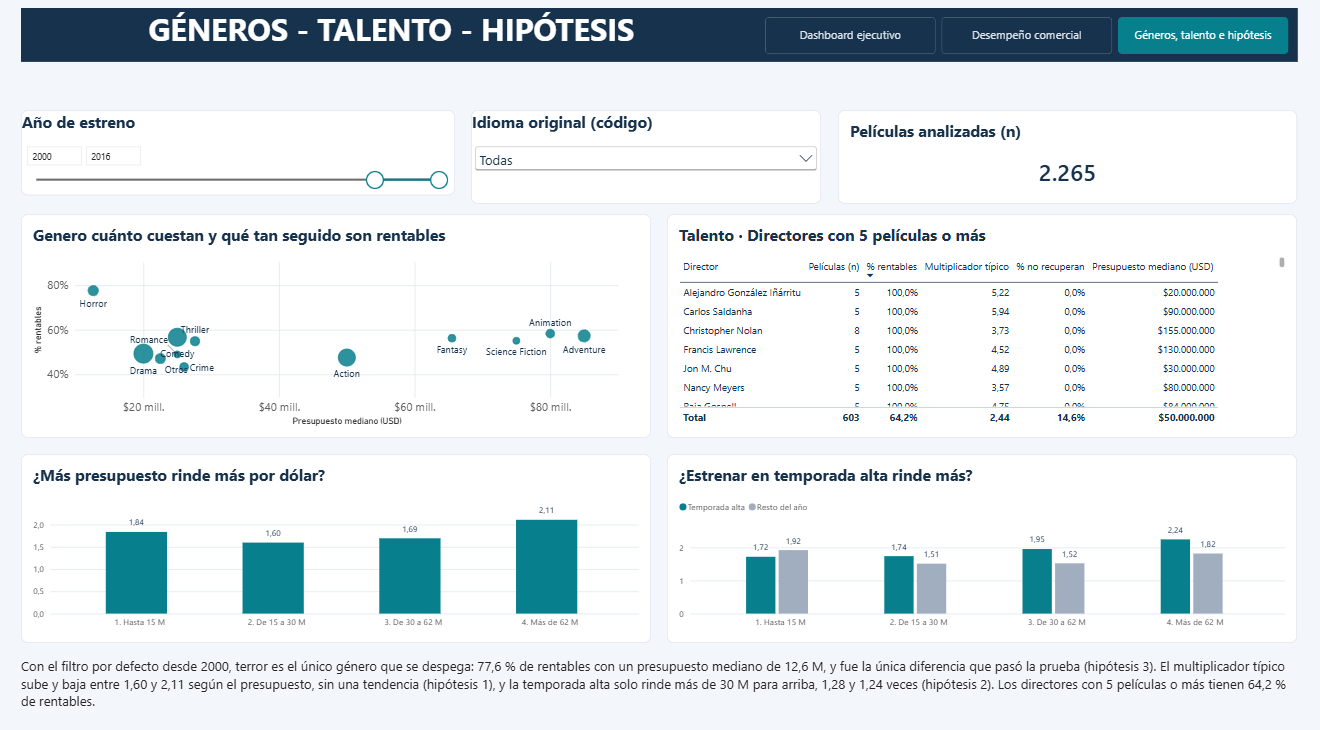

What the dashboard file says about the page in this screenshot:
{"tool":"powerbi","page":{"name":"Géneros, talento e hipótesis","canvas":[1920,1080],"ordinal":2},"visuals":[{"type":"textbox","box":[48,22,1824,77],"z":0},{"type":"slicer","title":"Año de estreno","fields":{"Values":["dim_fecha.anio"]},"box":[48,167,620,122],"z":2000},{"type":"slicer","title":"Idioma original (código)","fields":{"Values":["dim_idioma.codigo_idioma"]},"box":[691.6,167.6,500.1,134.3],"z":3000},{"type":"card","title":"Películas analizadas (n)","fields":{"Values":["fact_peliculas.Películas"]},"box":[1215.7,167.6,655.7,134.3],"z":4000},{"type":"scatterChart","title":"Genero cuánto cuestan y qué tan seguido son rentables","fields":{"Category":["fact_peliculas.genero_agrupado"],"Size":["fact_peliculas.Películas"],"X":["fact_peliculas.Presupuesto mediano"],"Y":["fact_peliculas.% rentables"]},"box":[48,315,900,320],"z":4001},{"type":"tableEx","title":"Talento · Directores con 5 películas o más","fields":{"Values":["dim_director.director_etiqueta","fact_peliculas.Películas","fact_peliculas.% rentables","fact_peliculas.Multiplicador típico","fact_peliculas.% no recuperan presupuesto","fact_peliculas.Presupuesto mediano"]},"box":[972,315,900,320],"z":4002},{"type":"clusteredColumnChart","title":"¿Más presupuesto rinde más por dólar?","fields":{"Category":["fact_peliculas.Rango de presupuesto"],"Y":["fact_peliculas.Multiplicador típico"]},"box":[48,659,900,270],"z":4003},{"type":"clusteredColumnChart","title":"¿Estrenar en temporada alta rinde más?","fields":{"Category":["fact_peliculas.Rango de presupuesto"],"Y":["fact_peliculas.Multiplicador típico temporada alta","fact_peliculas.Multiplicador típico resto del año"]},"box":[972,659,900,270],"z":4004},{"type":"textbox","box":[48,948,1824,105],"z":4005},{"type":"pageNavigator","box":[1112,34,748,53],"z":5000}]}

Visuals, with their boxes in screenshot pixels (x1, y1, x2, y2), scaled from the page's 1920x1080 canvas onto the 1320x730 screenshot:
textbox: (33, 15, 1287, 67)
"Año de estreno" slicer: (33, 113, 459, 195)
"Idioma original (código)" slicer: (475, 113, 819, 204)
"Películas analizadas (n)" card: (836, 113, 1287, 204)
"Genero cuánto cuestan y qué tan seguido son rentables" scatterChart: (33, 213, 652, 429)
"Talento · Directores con 5 películas o más" tableEx: (668, 213, 1287, 429)
"¿Más presupuesto rinde más por dólar?" clusteredColumnChart: (33, 445, 652, 628)
"¿Estrenar en temporada alta rinde más?" clusteredColumnChart: (668, 445, 1287, 628)
textbox: (33, 641, 1287, 712)
pageNavigator: (764, 23, 1279, 59)
